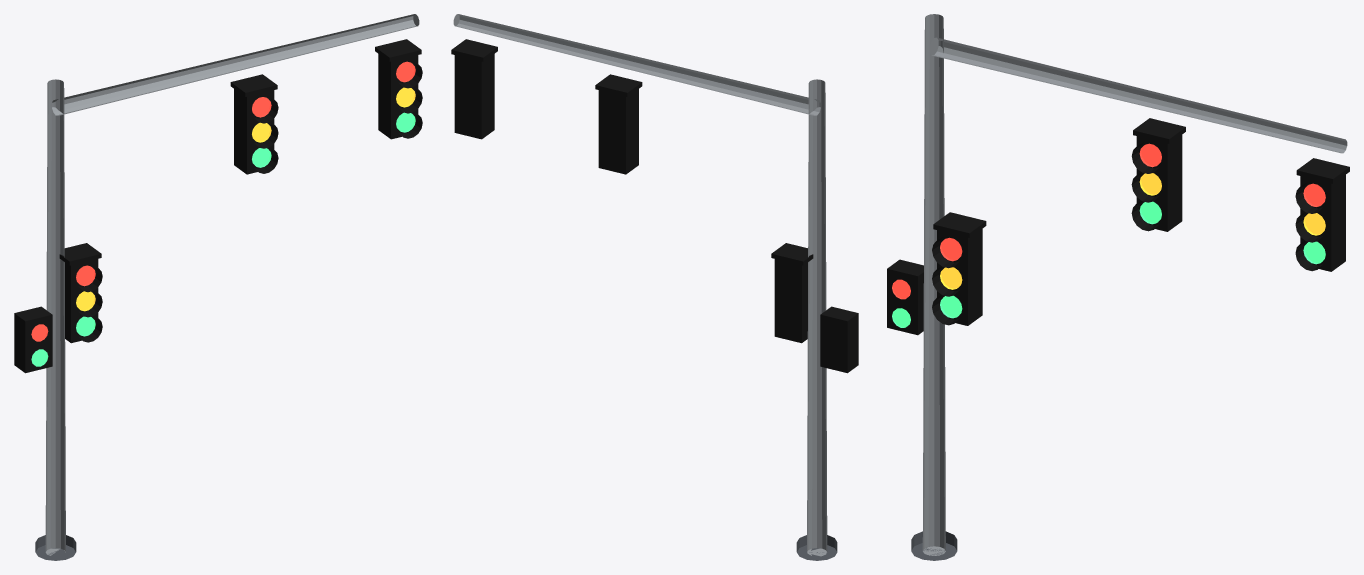
The model's file is signal-mast.glb.
The picture shows the model from 3 angles, left to right: view 1: azimuth 30°, elevation 25°; view 2: azimuth 150°, elevation 25°; view 3: azimuth 330°, elevation 25°; orthographic projection. The views are drawn at different scales.
Visible parts, largest first — view 1: signal-mast; view 2: signal-mast; view 3: signal-mast.
Boxes of the visible parts, x1=… form: signal-mast: x1=14, y1=14, x2=422, y2=560; signal-mast: x1=451, y1=14, x2=858, y2=560; signal-mast: x1=887, y1=14, x2=1349, y2=560.
Bounding box in the file's own units: 4.95 × 5.6 × 0.49.
